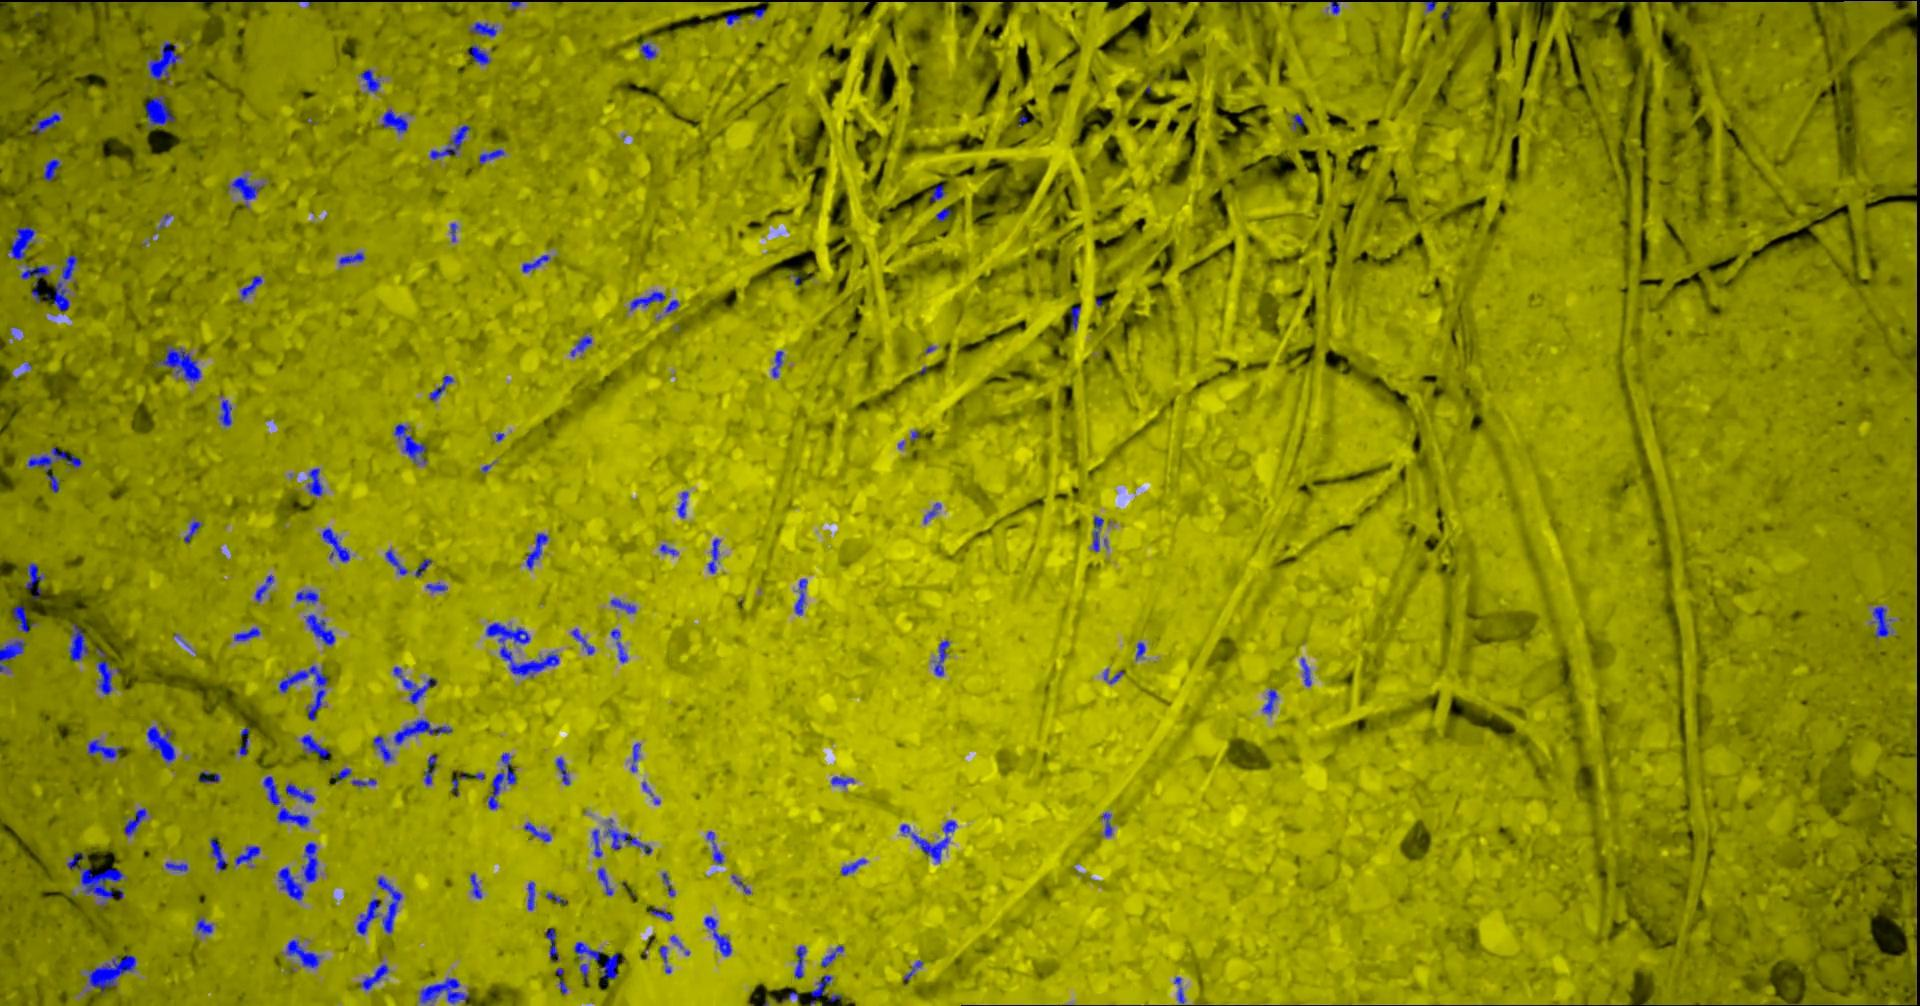ant: (279, 666, 329, 720), (69, 852, 124, 899), (29, 446, 83, 492), (912, 821, 957, 862), (90, 954, 137, 995), (155, 343, 203, 381), (47, 254, 79, 310), (489, 752, 518, 809), (394, 666, 438, 702), (607, 818, 653, 854), (395, 718, 453, 744), (430, 124, 472, 159), (378, 876, 403, 934), (422, 977, 470, 1005), (395, 423, 428, 464), (150, 41, 183, 80), (705, 916, 733, 956), (22, 264, 51, 302), (146, 95, 177, 128), (149, 727, 177, 762), (232, 177, 264, 207), (323, 528, 350, 561), (288, 939, 321, 967), (357, 898, 382, 934), (307, 614, 337, 644), (279, 866, 305, 901), (527, 533, 550, 569), (97, 648, 114, 694), (1, 639, 27, 671), (11, 226, 36, 259), (302, 734, 331, 761), (361, 963, 390, 989), (70, 622, 89, 661), (32, 111, 62, 133), (811, 974, 834, 1005), (1873, 606, 1895, 638), (124, 807, 149, 835), (278, 807, 311, 827), (89, 739, 123, 758), (382, 109, 409, 133), (13, 605, 36, 633), (631, 291, 667, 309), (430, 375, 455, 400), (573, 627, 596, 654), (211, 836, 229, 870), (303, 842, 319, 882), (575, 941, 604, 962), (27, 563, 43, 598), (240, 276, 263, 301), (286, 782, 316, 801), (935, 640, 951, 674), (387, 549, 409, 574), (612, 629, 629, 662), (264, 775, 282, 805), (524, 822, 552, 841), (709, 831, 725, 862), (523, 254, 552, 272), (257, 574, 276, 601), (822, 945, 844, 967), (375, 735, 394, 761), (236, 845, 262, 864), (905, 959, 924, 984), (709, 539, 723, 573), (842, 857, 869, 875), (603, 953, 620, 981), (796, 578, 809, 614), (571, 335, 593, 356), (469, 44, 491, 64), (362, 69, 381, 91), (309, 467, 324, 495), (599, 868, 615, 895), (547, 929, 560, 962), (1093, 516, 1105, 551), (480, 149, 505, 164), (612, 598, 637, 614), (425, 754, 438, 785), (44, 159, 62, 180), (924, 502, 942, 523), (796, 945, 808, 978), (471, 22, 498, 36), (235, 627, 262, 641), (557, 757, 571, 784), (1263, 688, 1279, 713), (185, 521, 202, 542), (1302, 657, 1313, 686), (297, 589, 320, 603), (240, 727, 251, 754), (660, 945, 672, 973), (931, 183, 947, 202), (1105, 668, 1125, 683), (632, 742, 643, 772), (333, 767, 353, 782), (340, 251, 364, 264), (773, 351, 785, 377), (221, 399, 232, 426), (1176, 976, 1186, 1005), (417, 558, 433, 575), (663, 873, 676, 895), (471, 873, 483, 898), (651, 907, 674, 920), (198, 917, 215, 934), (679, 492, 690, 517), (547, 890, 568, 903), (594, 829, 603, 857), (1072, 305, 1082, 329), (641, 43, 657, 58), (201, 771, 221, 782), (832, 776, 855, 786), (1103, 812, 1112, 836), (937, 207, 952, 221), (1293, 113, 1305, 130), (166, 862, 189, 871), (667, 298, 681, 312), (353, 779, 378, 786), (428, 582, 450, 591), (1137, 641, 1147, 659), (530, 882, 536, 909), (726, 13, 742, 24), (1425, 0, 1437, 11), (1331, 0, 1341, 13)
